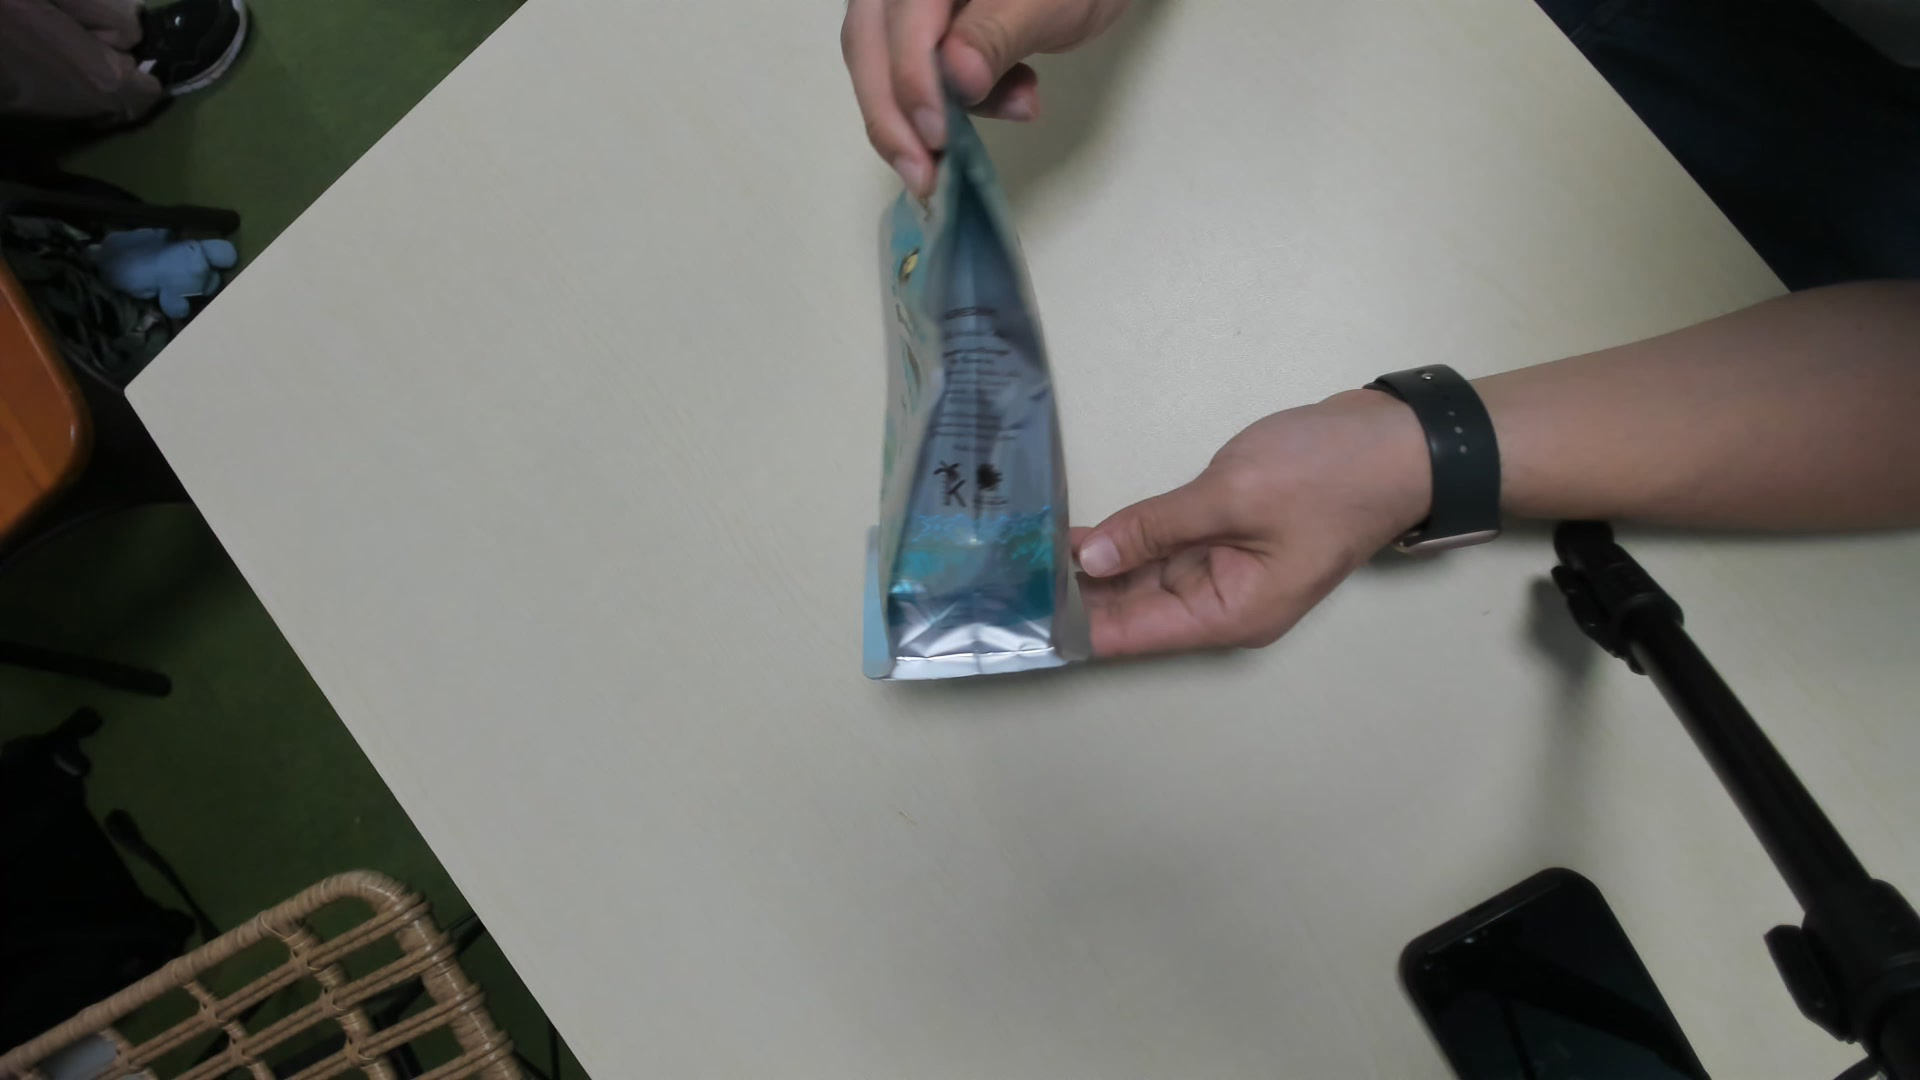Coffee_100-199g_NonHalal_NonHealthy: (868, 98, 1091, 694)
